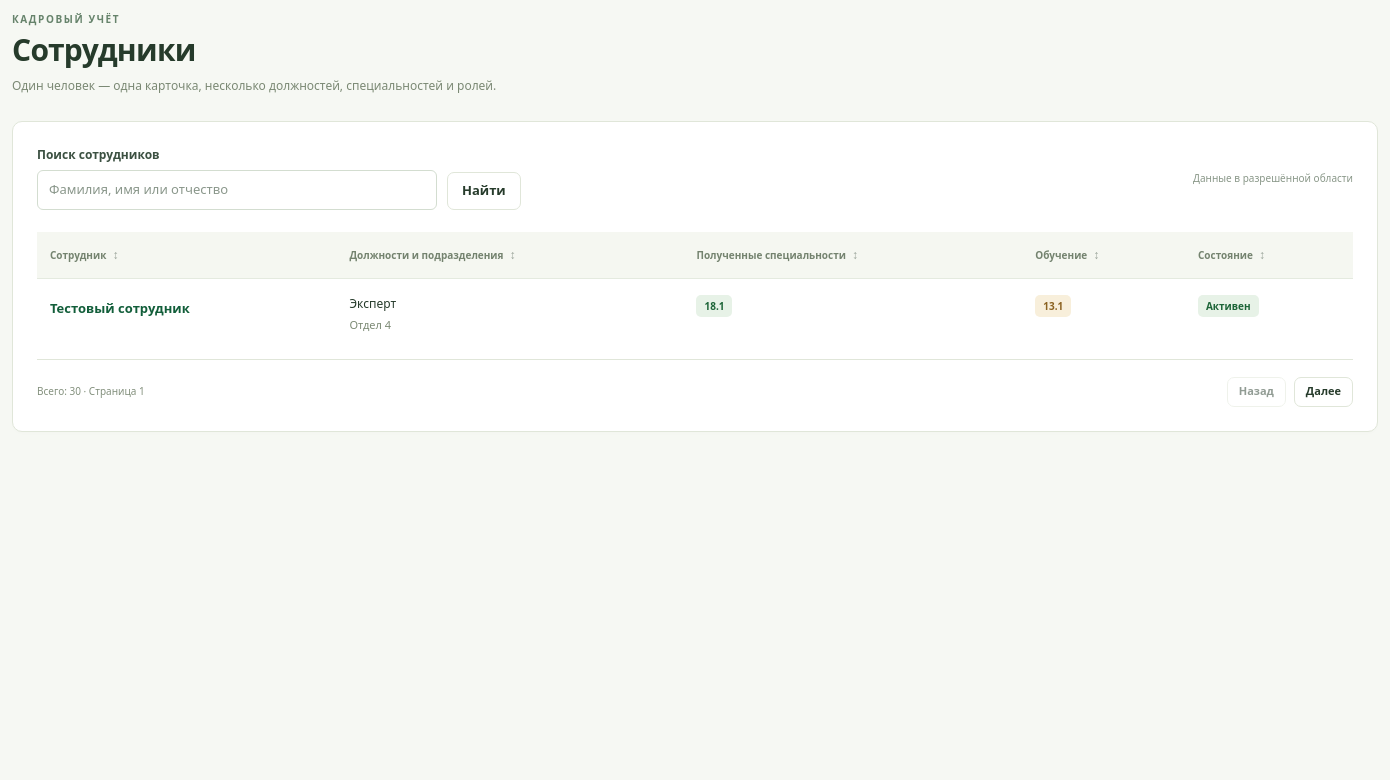
Test case: people registry › replaces the registry with a dedicated card and returns to the same search and page
The image size is (1390, 780).
Type "Тестовый" into the search field labelled "Поиск сотрудников" at (237, 190), box [37, 170, 437, 210]
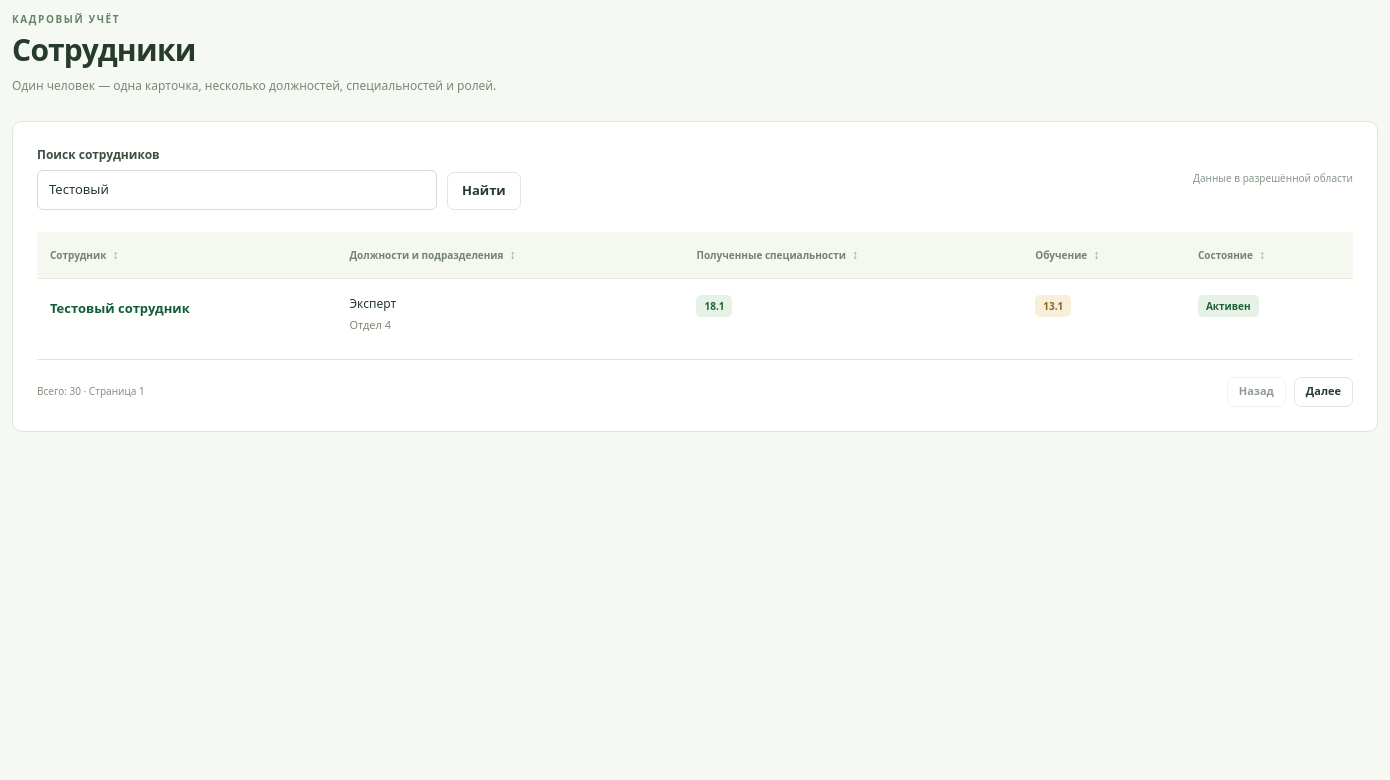
Submit the form with class "toolbar", box [37, 146, 1353, 210]
Click the button "Далее" at (1323, 392), box [1294, 376, 1353, 406]
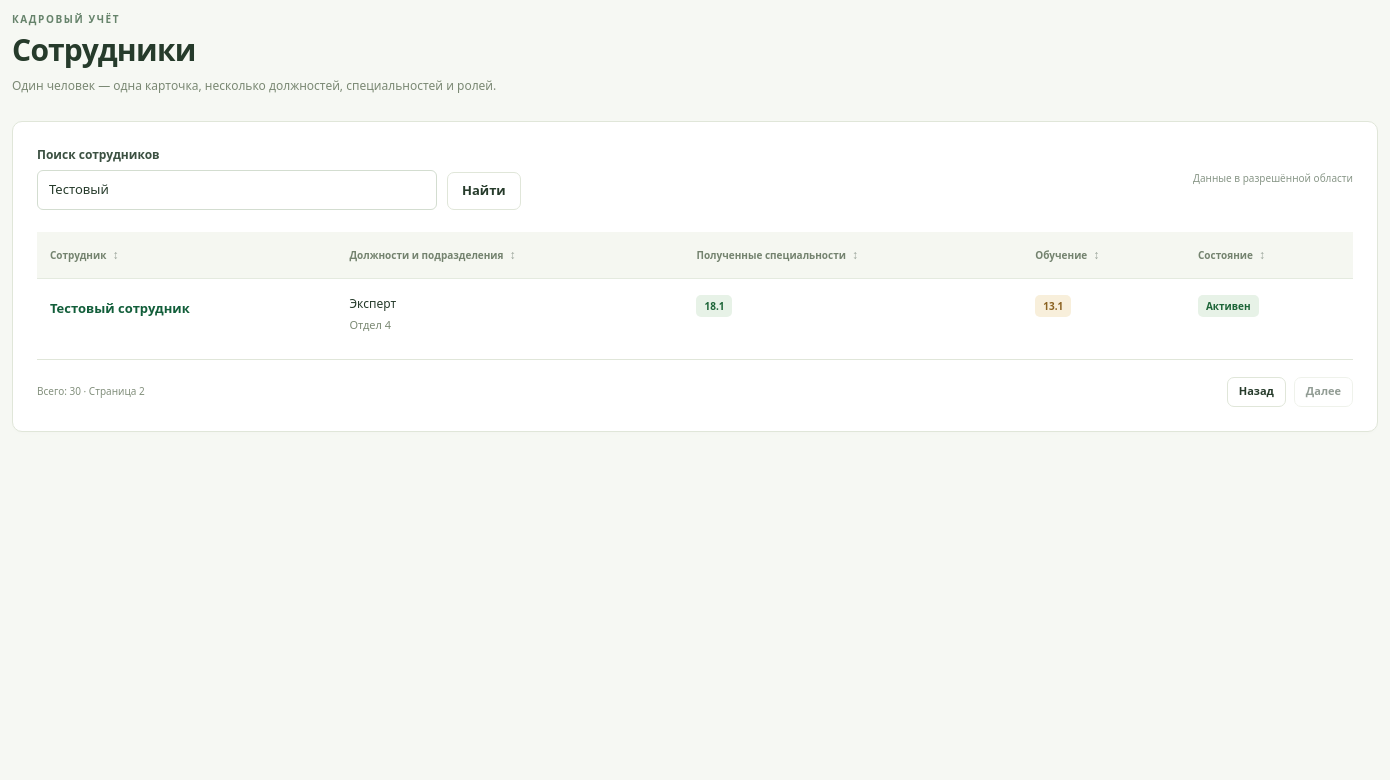
Check: the element showing "Всего: 30 · Страница 2 Назад Далее" is shown, box [37, 358, 1353, 406]
Click the button "Тестовый сотрудник" at (120, 309), box [50, 295, 190, 323]
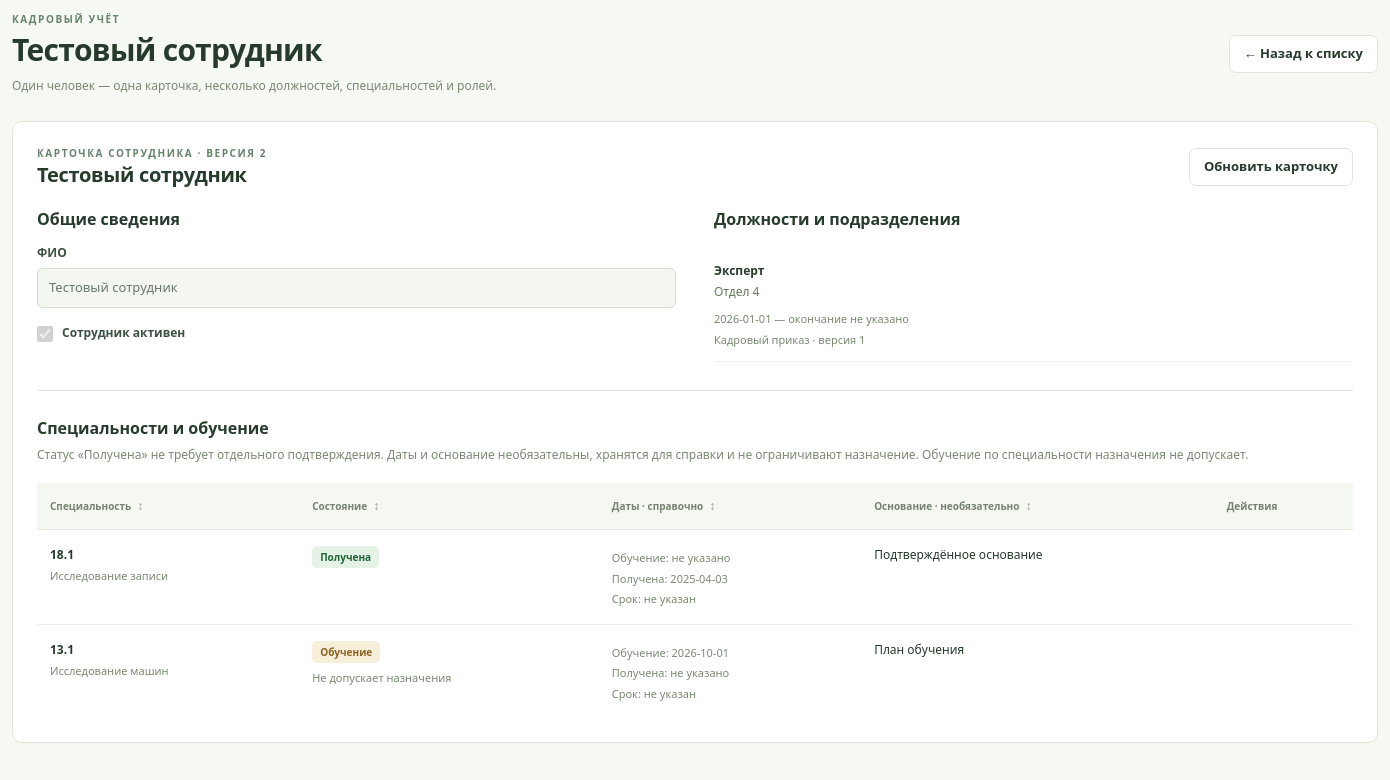
Check: the heading "Тестовый сотрудник" below "Карточка сотрудника · версия 2" is shown, box [37, 161, 247, 188]
Click the button "← Назад к списку" at (1303, 54), box [1229, 34, 1378, 72]
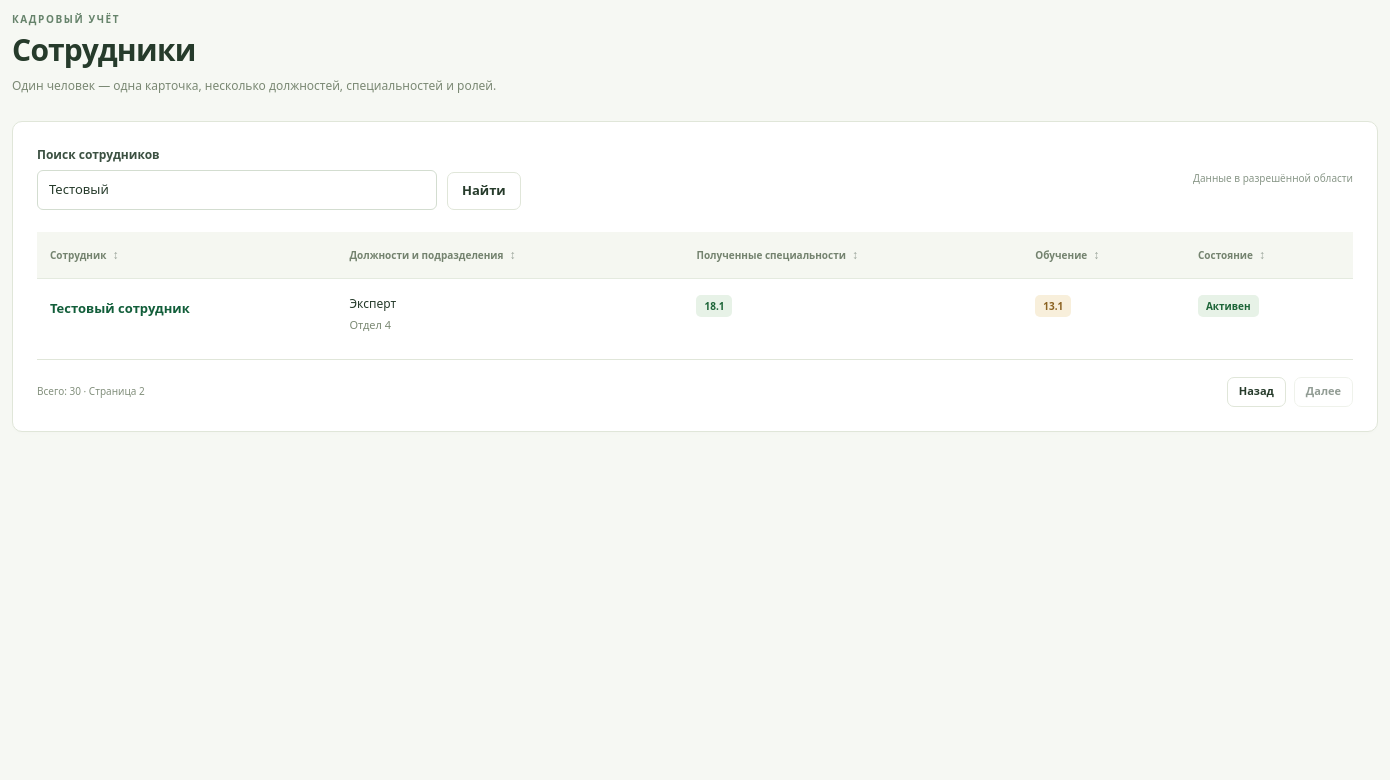
Check: the search field labelled "Поиск сотрудников" holds "Тестовый", box [37, 170, 437, 210]
Check: the element showing "Всего: 30 · Страница 2 Назад Далее" is shown, box [37, 358, 1353, 406]
